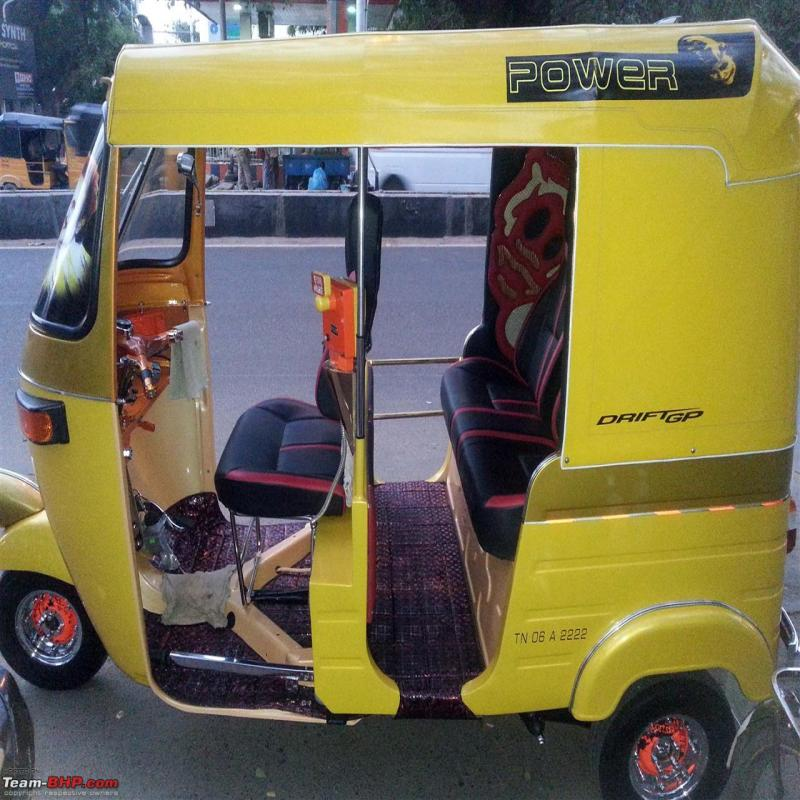bike: (26, 45, 784, 755)
